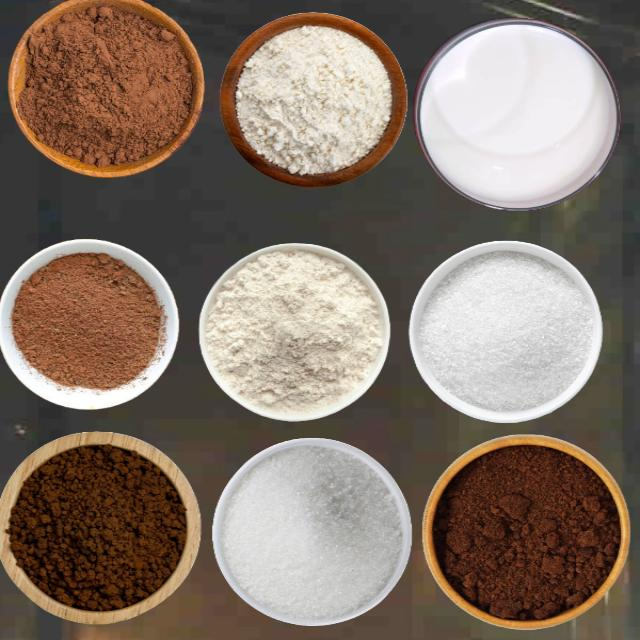Cocoa: (17, 0, 192, 167), (10, 251, 165, 391)
Coffee: (432, 442, 621, 622), (6, 442, 186, 612)
Flour: (203, 248, 383, 414), (234, 23, 392, 176)
Sugar: (220, 445, 403, 621), (417, 250, 594, 412)
